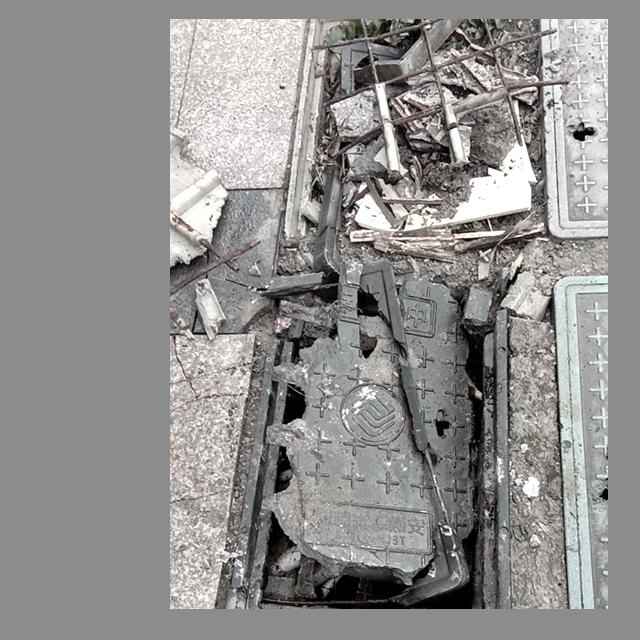broke: (221, 270, 530, 609), (283, 19, 555, 247)
